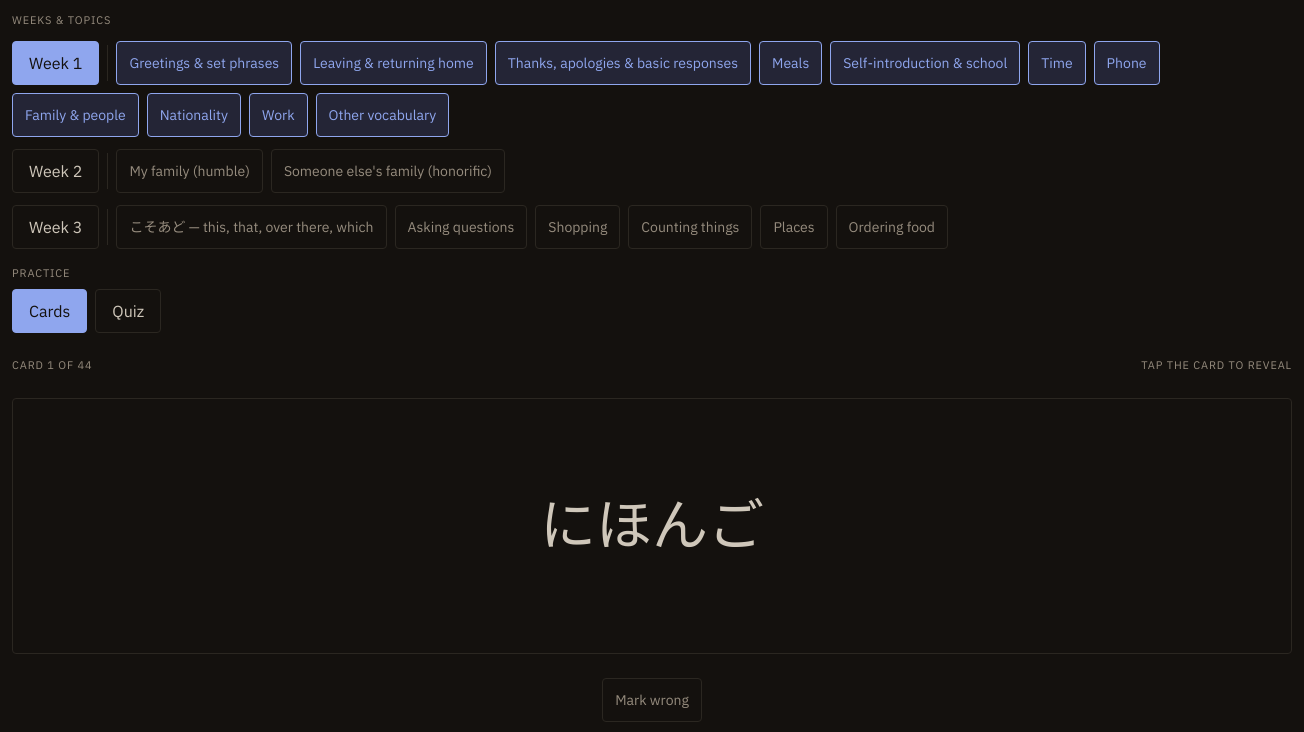
Scenario: the scope picker › says what to do when nothing is selected
This screenshot has width=1304, height=732.
Click the button "Week 1": (56, 62) [12,40,99,84]
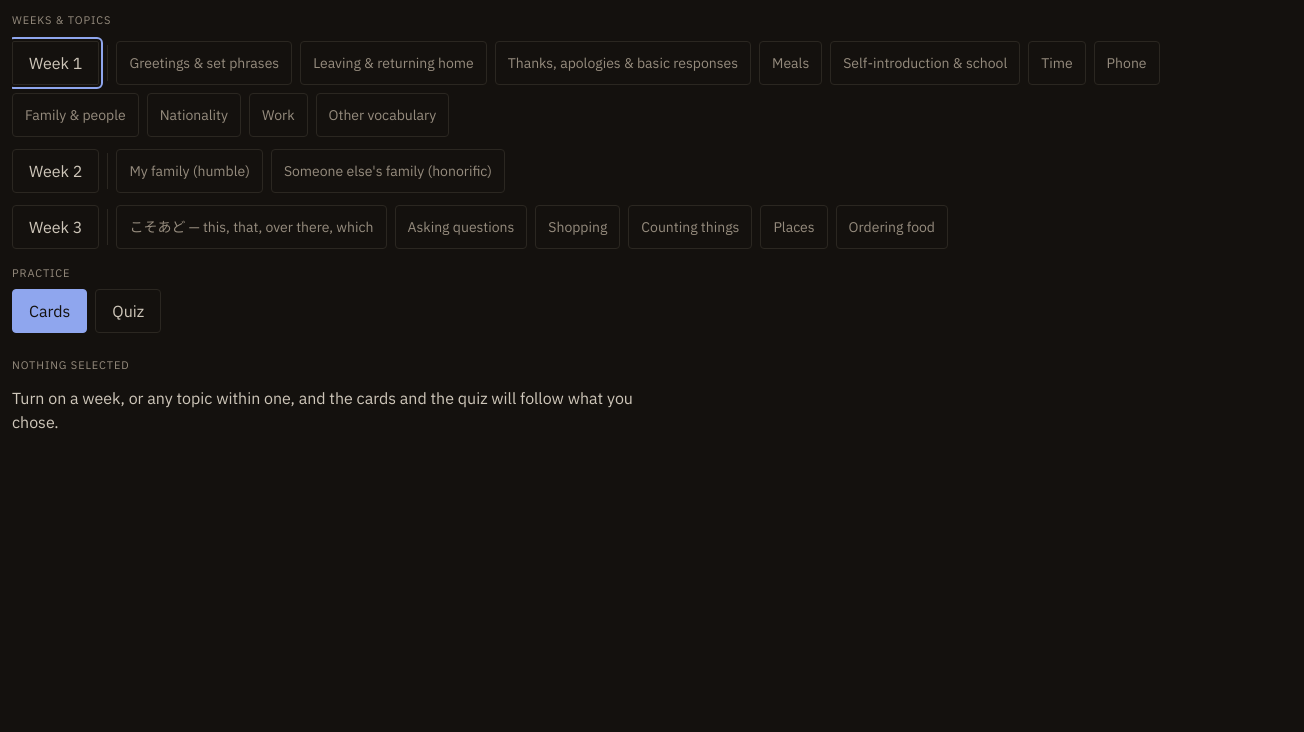
Expected: the button "Card " is not shown
Now the heading "Nothing selected" is shown, box [12,357,130,374]
